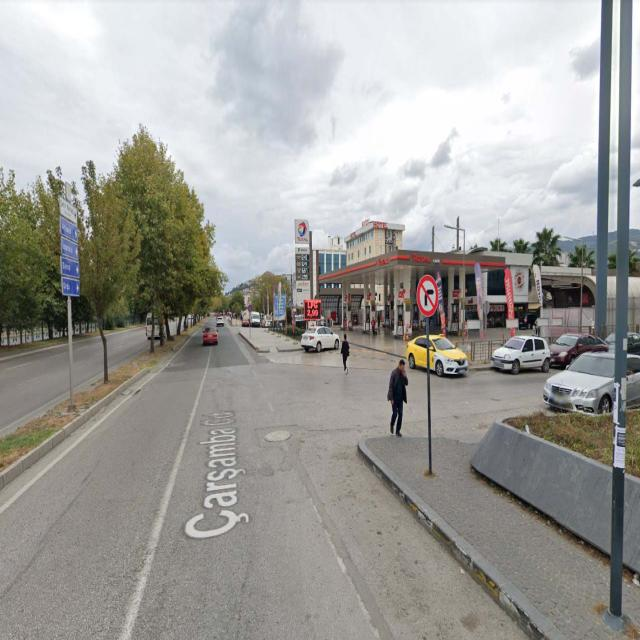sagadonulmez: (416, 274, 439, 316)
